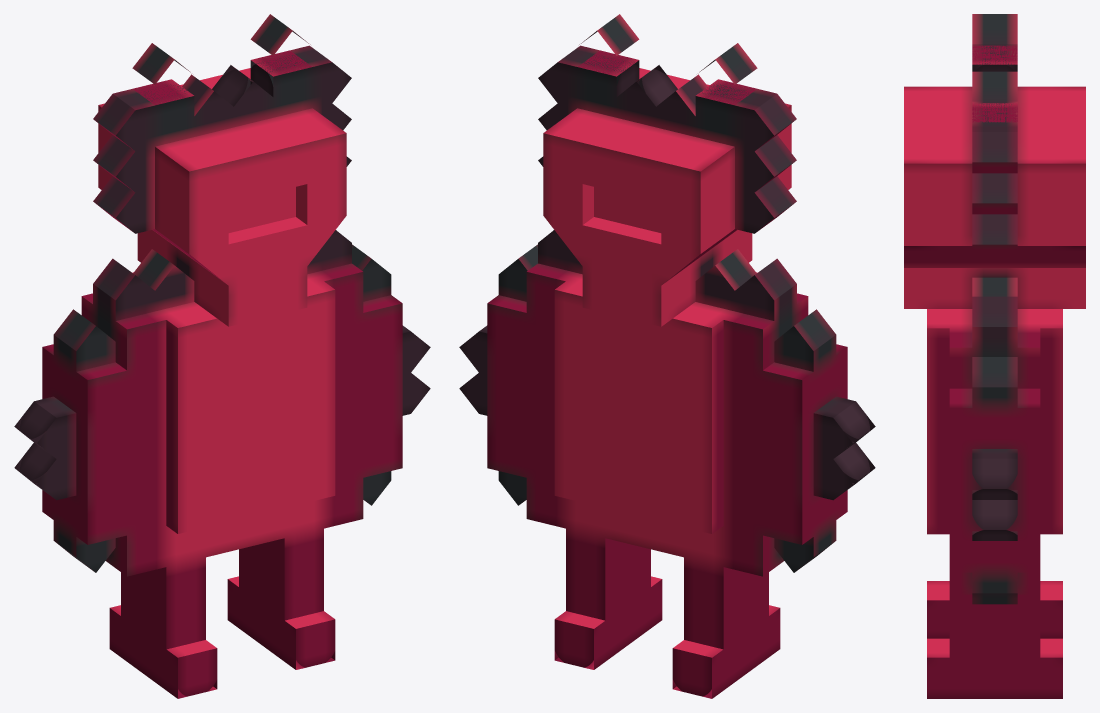
Rendered from EliteEnemy.fbx.
3 renders of one model, left to right at view 1: azimuth 30°, elevation 25°; view 2: azimuth 150°, elevation 25°; view 3: azimuth 270°, elevation 25°, orthographic.
Parts seen in each view (by area): view 1: generated; view 2: generated; view 3: generated.
Boxes of the visible parts, x1,y1,x2,y2 form: generated: (14, 14, 430, 698); generated: (459, 14, 875, 698); generated: (904, 14, 1085, 698).
Bounding box in the file's own units: 100 × 150 × 40.
